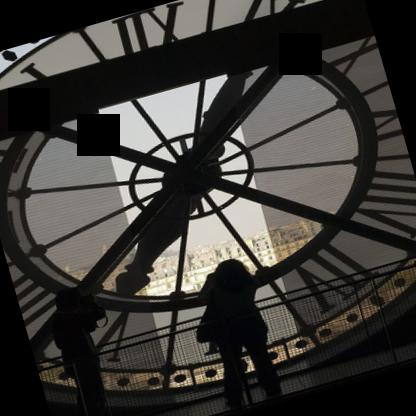handbag: (197, 302, 231, 341)
